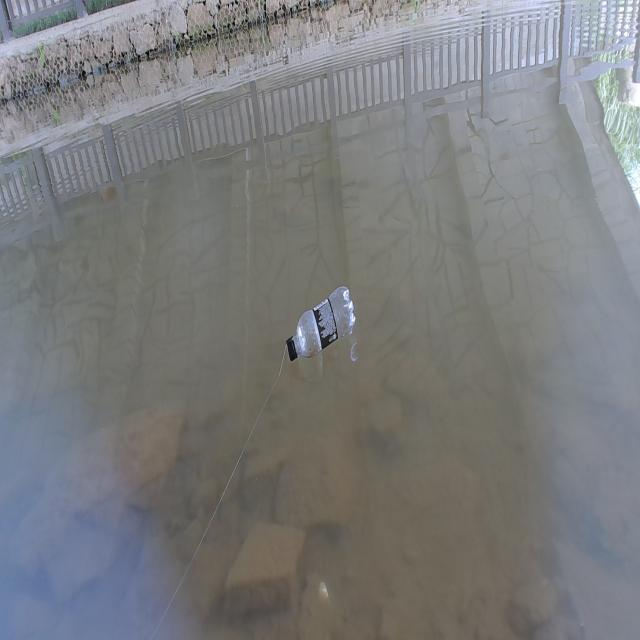Bottle: (286, 276, 356, 366)
